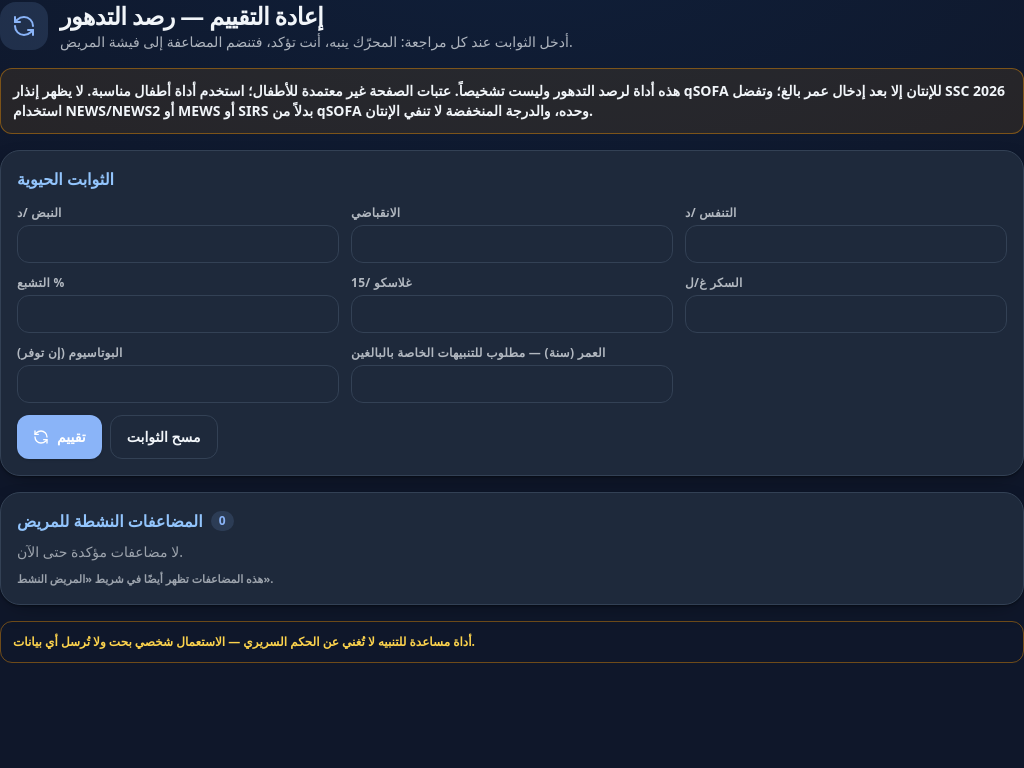
it: v16.0 — تدفق الصفحة › تنبيه qSOFA لا يظهر قبل إدخال عمر بالغ، ويظل إنذاراً لا تشخيصاً بعد ذلك
Type "95" into the number field labelled "الانقباضي".
click(512, 244); type("95")  # box 351,225 -> 673,263
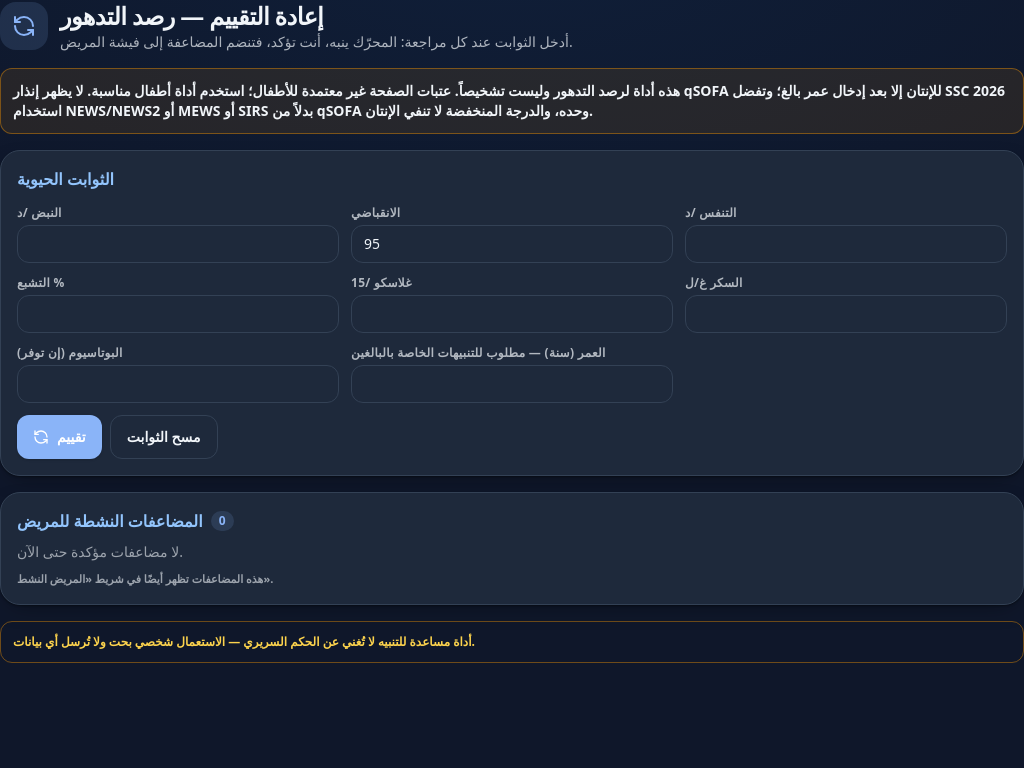
Type "24" into the number field labelled "التنفس /د".
click(846, 244); type("24")  # box 685,225 -> 1007,263
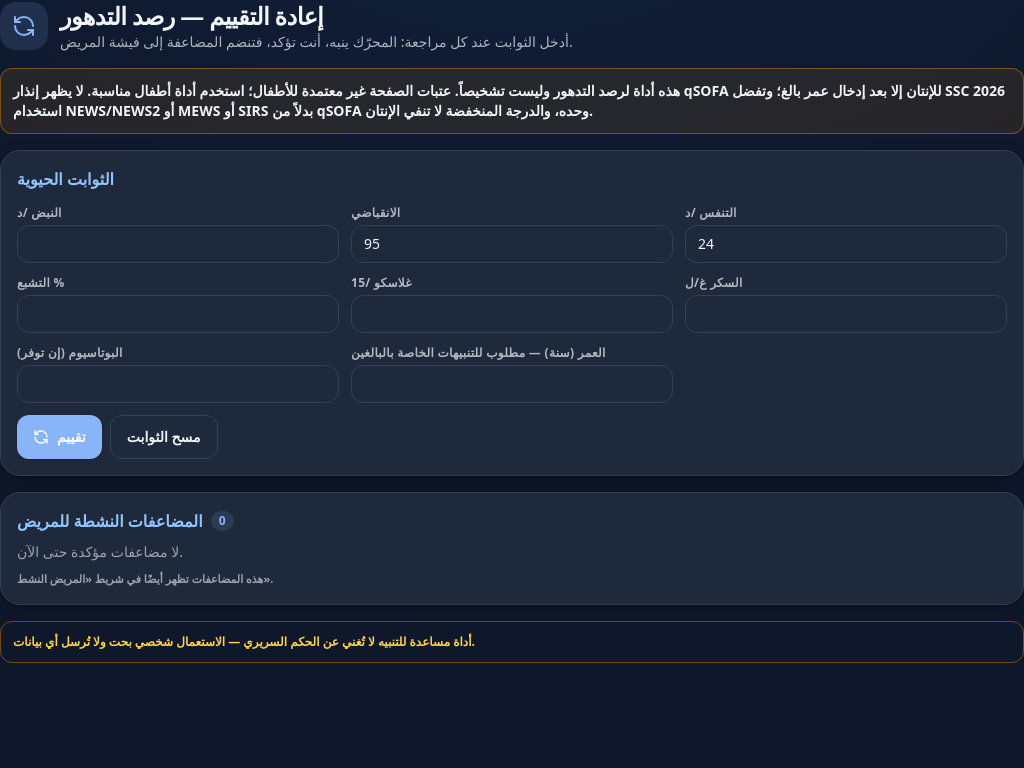
Click the button "تقييم".
click(59, 437)  # box 17,415 -> 102,459
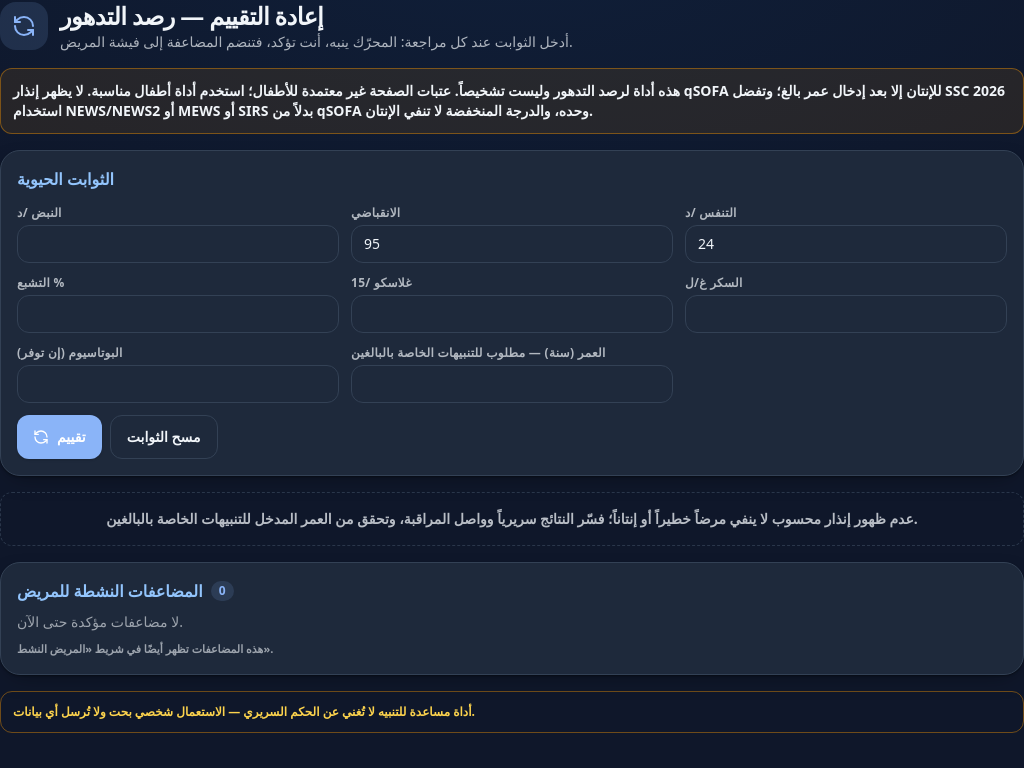
expect the text "إنتان محتمل — إشارة qSOFA" is not shown: met
Type "18" into the number field labelled "العمر (سنة) — مطلوب للتنبيهات الخاصة بالبالغين".
click(512, 384); type("18")  # box 351,365 -> 673,403
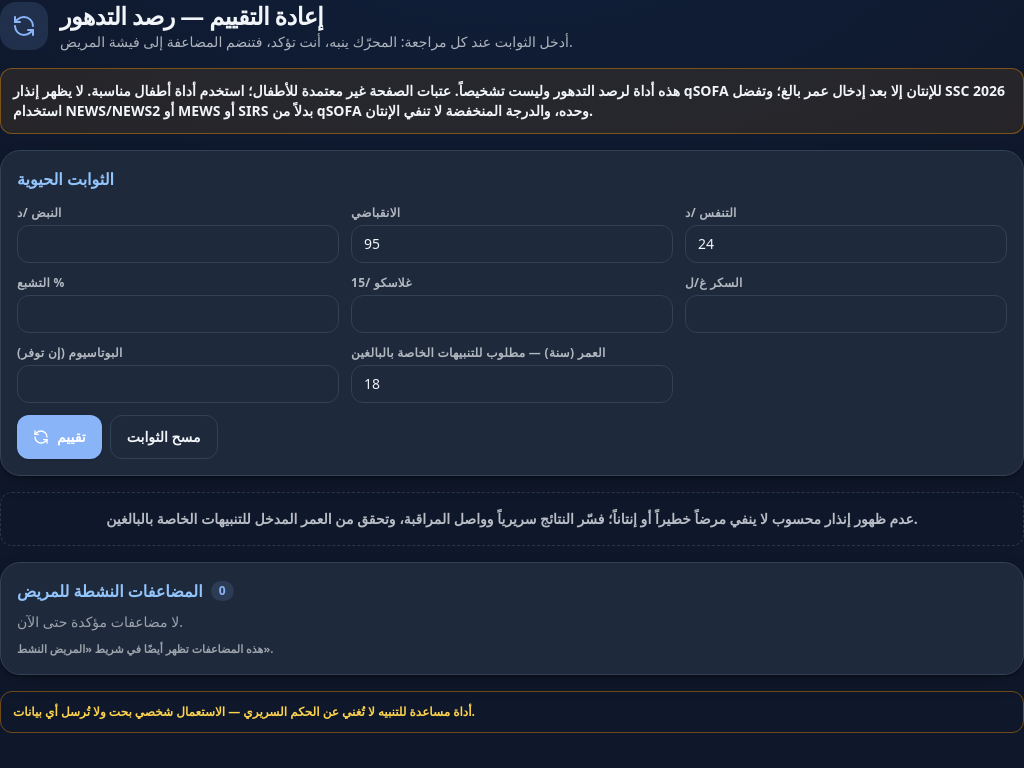
Click the button "تقييم".
click(59, 437)  # box 17,415 -> 102,459
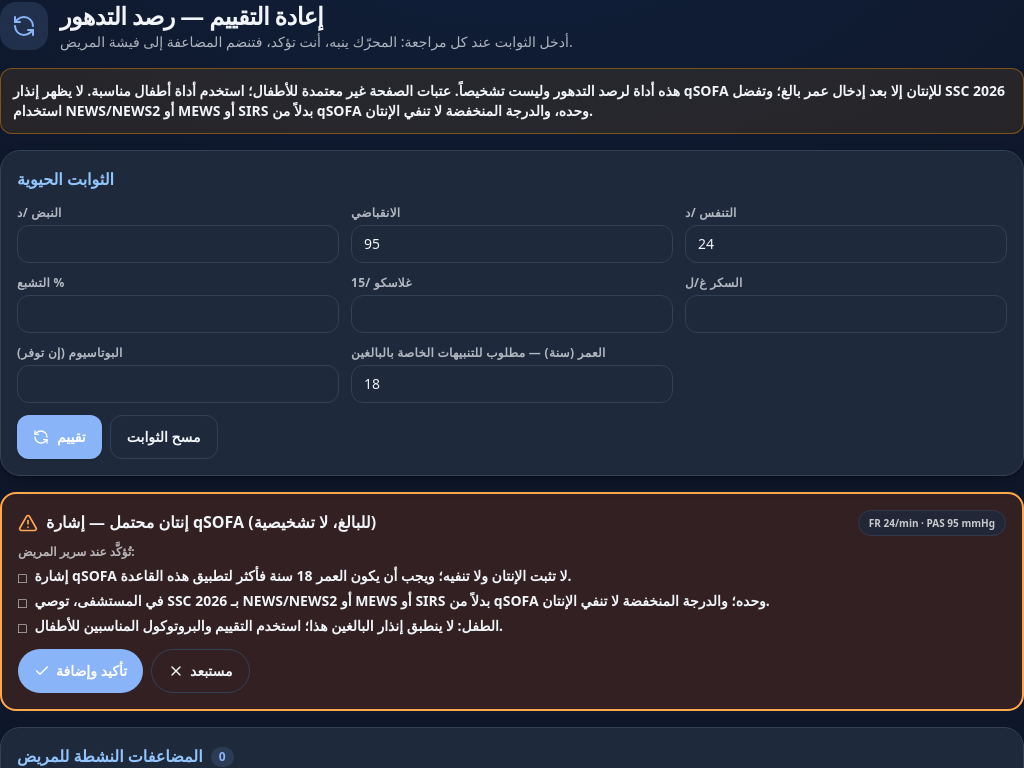
expect the heading "إنتان محتمل — إشارة qSOFA (للبالغ، لا تشخيصية)" is shown: met, box 46,511 -> 376,533
